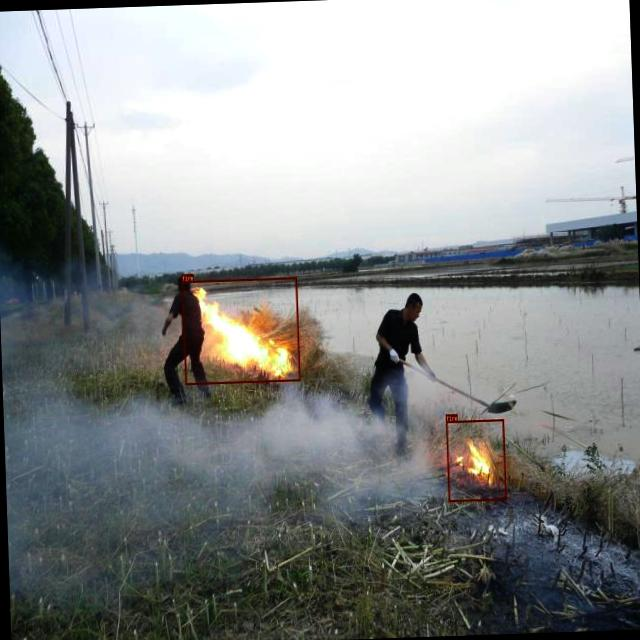fire: (181, 276, 300, 384), (445, 418, 506, 502)
